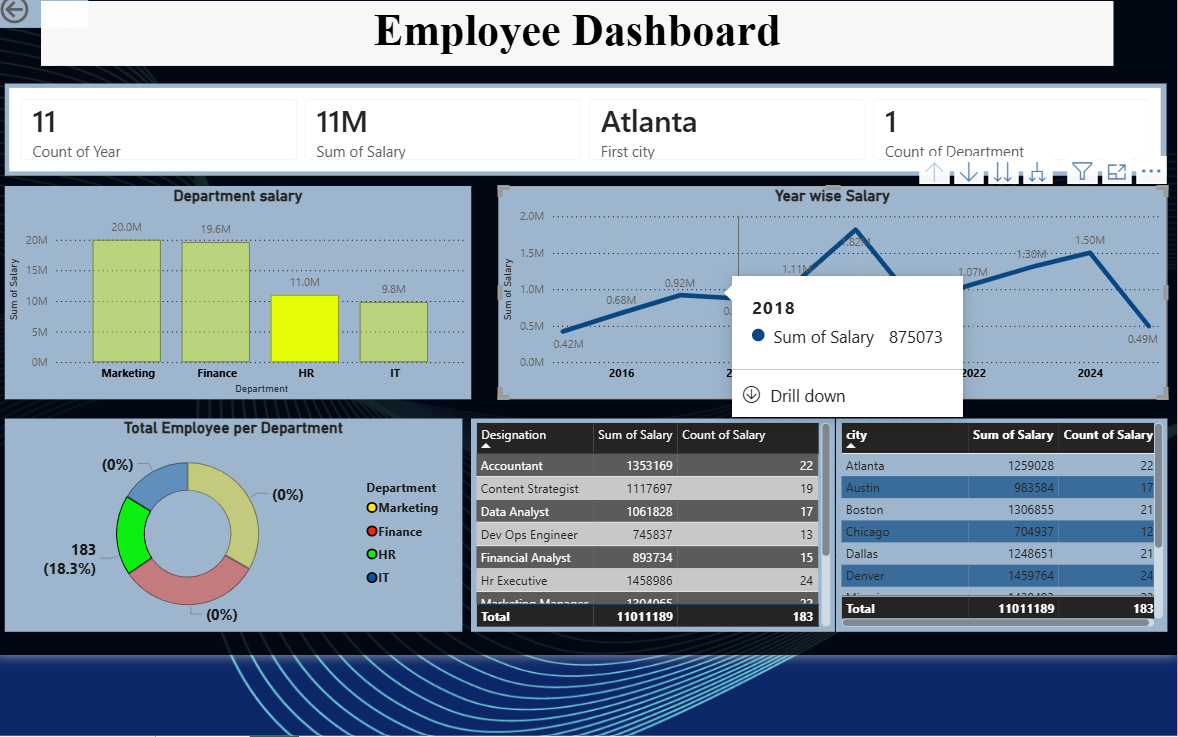

The page's visual inventory and layout, read from the dashboard file:
{"tool":"powerbi","page":{"name":"Page 1","canvas":[1280,720],"ordinal":0},"visuals":[{"type":"clusteredColumnChart","title":"Department salary","fields":{"Y":["Sum(untidy emp data.Salary)"],"Category":["dim_departmnet.Department"]},"box":[9.9,211.3,505.6,231],"z":0},{"type":"donutChart","title":"Total Employee per Department","fields":{"Y":["CountNonNull(untidy emp data.Emp_ID)"],"Category":["dim_departmnet.Department"]},"box":[9.9,463.4,495.8,231],"z":1000},{"type":"lineChart","title":"Year wise Salary","fields":{"Category":["dim_date.DOJ.Variation.Date Hierarchy.Year","dim_date.DOJ.Variation.Date Hierarchy.Quarter","dim_date.DOJ.Variation.Date Hierarchy.Month","dim_date.DOJ.Variation.Date Hierarchy.Day"],"Y":["Sum(fact emp data.Salary)"]},"box":[545.1,211.3,723.9,231],"z":2000},{"type":"tableEx","fields":{"Values":["dim_city.city","Sum(untidy emp data.Salary)","CountNonNull(untidy emp data.Salary)"]},"box":[909.9,463.4,359.2,231],"z":3000},{"type":"tableEx","fields":{"Values":["dim_designation.Designation","Sum(untidy emp data.Salary)","CountNonNull(untidy emp data.Salary)"]},"box":[515.5,463.4,394.4,231],"z":4000},{"type":"actionButton","box":[0,0,100,40],"z":5000},{"type":"textbox","box":[48.8,10.8,1162.4,70.4],"z":6000},{"type":"cardVisual","fields":{"Data":["Count(dim_date.Year)","Sum(fact emp data.Salary)","Min(dim_city.city)","CountNonNull(dim_departmnet.Department)"]},"box":[9.9,100,1259.2,100],"z":7000}]}

Visuals, with their boxes in screenshot pixels (x1, y1, x2, y2):
"Department salary" clusteredColumnChart: [6, 183, 465, 392]
"Total Employee per Department" donutChart: [6, 411, 456, 621]
"Year wise Salary" lineChart: [492, 183, 1149, 392]
tableEx - dim_city.city x Sum(untidy emp data.Salary): [823, 411, 1149, 621]
tableEx - dim_designation.Designation x Sum(untidy emp data.Salary): [465, 411, 823, 621]
actionButton: [0, 0, 88, 27]
textbox: [41, 1, 1096, 64]
cardVisual - Count(dim_date.Year) x Sum(fact emp data.Salary): [6, 82, 1149, 172]
